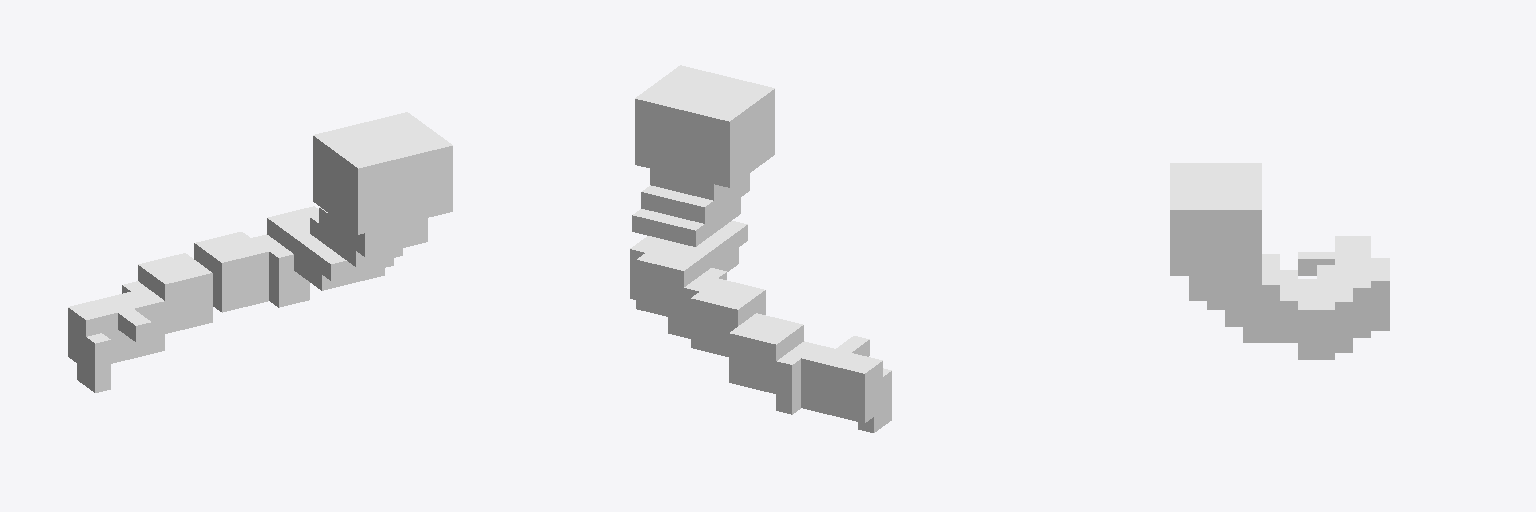
Rendered from hard-0.obj.
3 renders of one model, left to right at view 1: azimuth 30°, elevation 25°; view 2: azimuth 150°, elevation 25°; view 3: azimuth 270°, elevation 25°, orthographic.
Parts seen in each view (by area): view 1: object 1; view 2: object 1; view 3: object 1.
Part boxes in pixels (left/top/right/bottom): object 1: left=68, top=112, right=452, bottom=392; object 1: left=630, top=65, right=891, bottom=432; object 1: left=1170, top=163, right=1389, bottom=359.
Size of the model in its own units: 1.8 by 1.4 by 1.2.